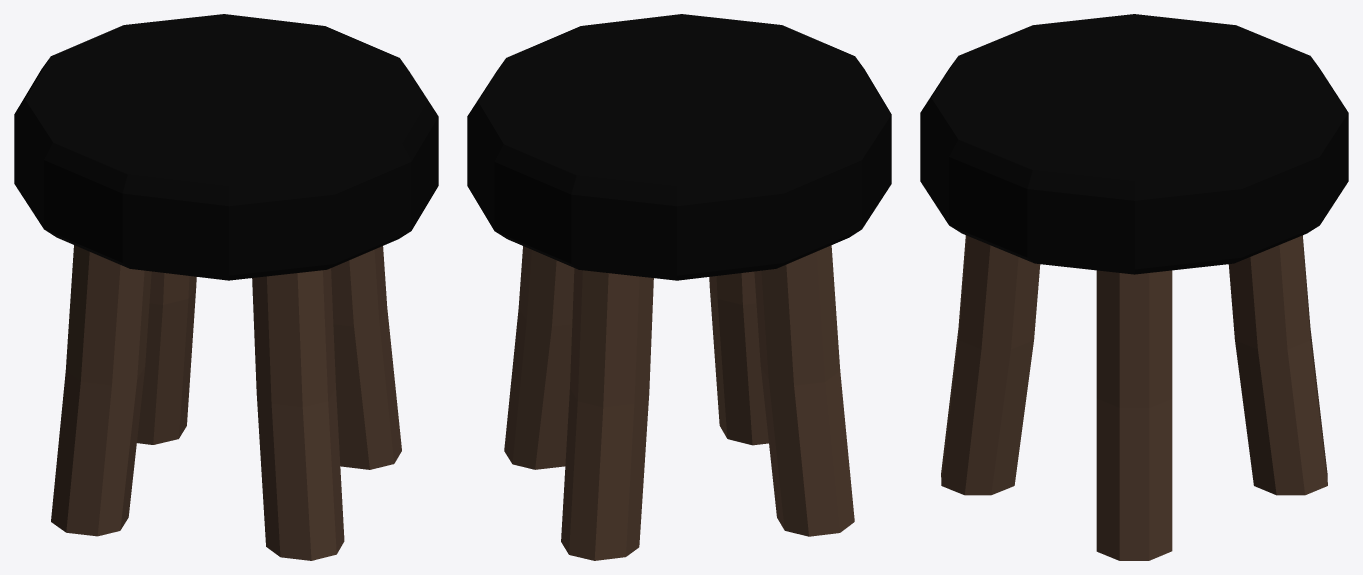
File: Stool.fbx
3 renders of one model, left to right at view 1: azimuth 30°, elevation 25°; view 2: azimuth 150°, elevation 25°; view 3: azimuth 270°, elevation 25°, orthographic.
Parts seen in each view (by area): view 1: Stool; view 2: Stool; view 3: Stool.
Part boxes in pixels (box(x1,y1,x2,y2)): Stool: box(14, 14, 438, 560); Stool: box(467, 14, 891, 560); Stool: box(920, 14, 1348, 560).
Size of the model in its own units: 0.4865 by 0.4916 by 0.4994.
